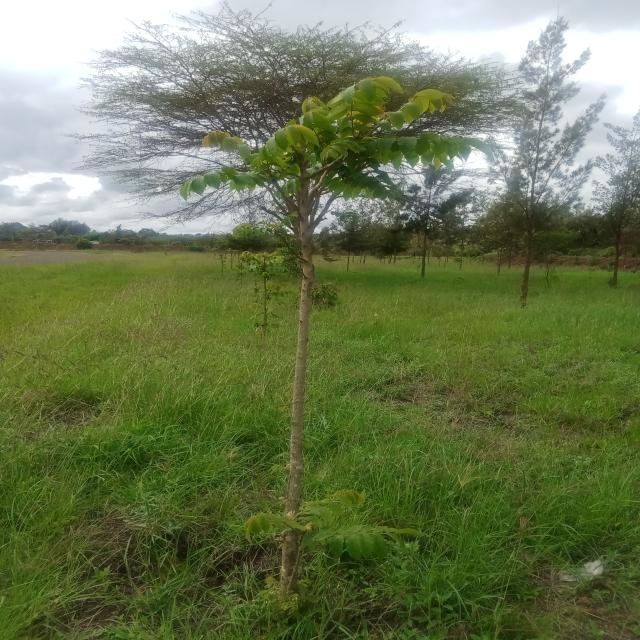Polyscias Kikuyensis: (204, 74, 497, 622)
